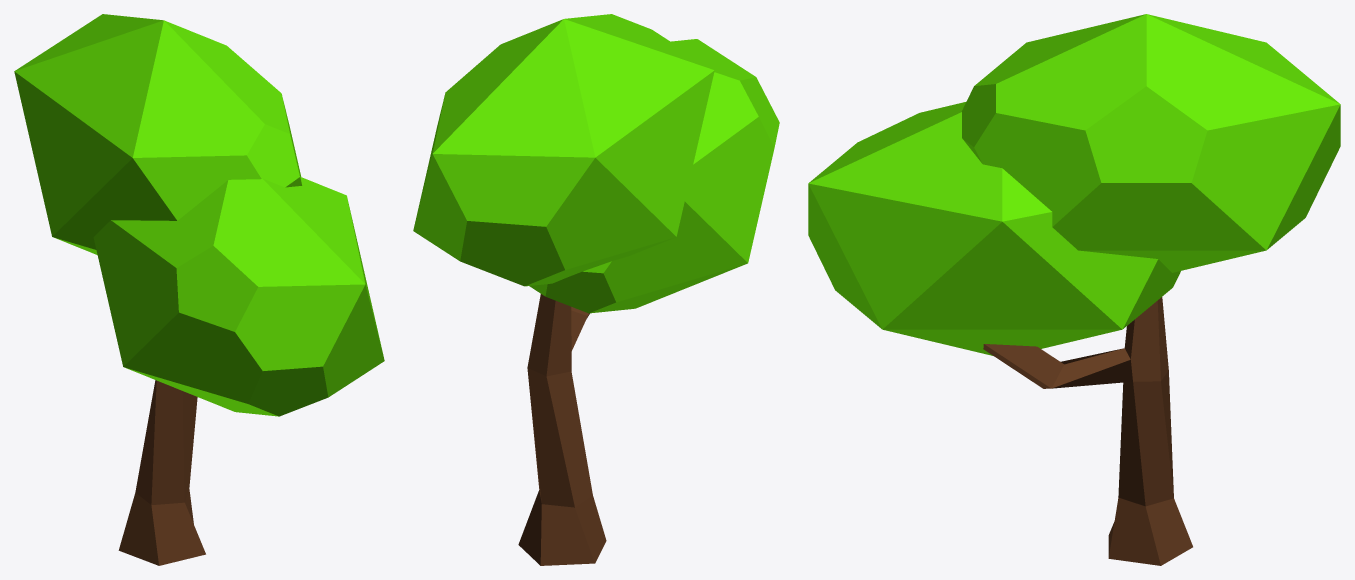
Rendered from tree_1.glb.
3 renders of one model, left to right at view 1: azimuth 30°, elevation 25°; view 2: azimuth 150°, elevation 25°; view 3: azimuth 270°, elevation 25°, orthographic.
Parts seen in each view (by area): view 1: Tree_1; view 2: Tree_1; view 3: Tree_1.
Boxes of the visible parts, x1,y1,x2,y2 form: Tree_1: (14,14,384,565); Tree_1: (413,14,779,565); Tree_1: (808,14,1340,565).
Size of the model in its own units: 4.47 by 10.06 by 9.1.
